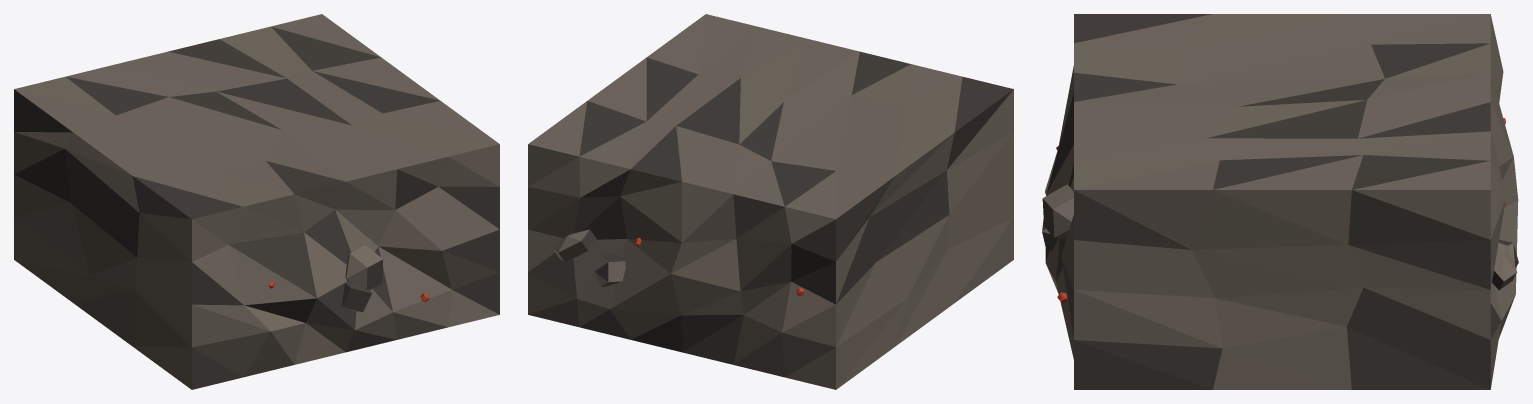
Rendered from Kit_Rock_Mines.fbx.
3 views of the same model, side by side, from view 1: azimuth 30°, elevation 25°; view 2: azimuth 150°, elevation 25°; view 3: azimuth 270°, elevation 25° (orthographic). The views are drawn at different scales.
Visible parts, largest first — view 1: Rock, Decor; view 2: Rock, Decor; view 3: Rock, Decor.
Boxes of the visible parts, left/top/right/bottom form: Rock: left=14, top=14, right=499, bottom=389; Decor: left=268, top=245, right=429, bottom=312; Rock: left=528, top=14, right=1013, bottom=389; Decor: left=552, top=229, right=804, bottom=295; Rock: left=1045, top=14, right=1518, bottom=389; Decor: left=1042, top=118, right=1518, bottom=303.
Bounding box in the file's own units: 34 × 18 × 38.91.
